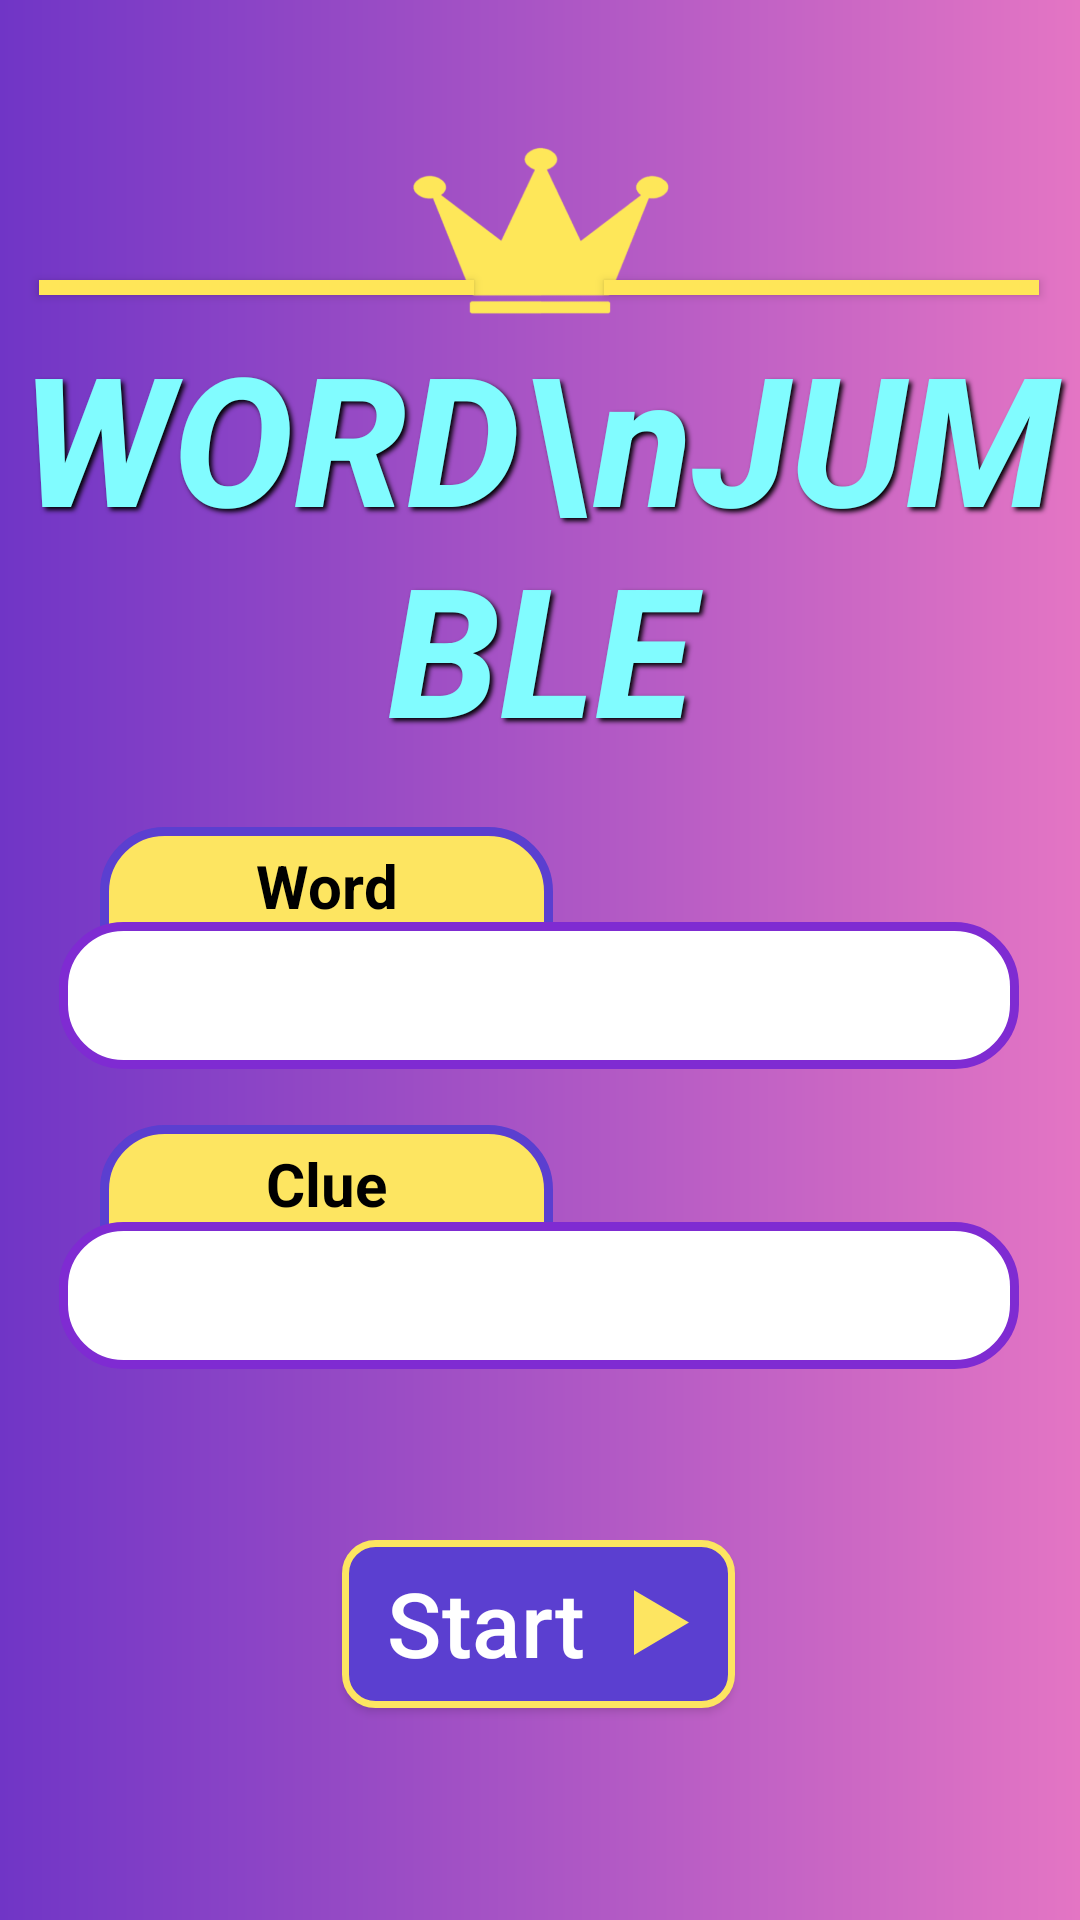

Named icons in this screenshot (1080*1920) and their bounding boxes, (x1, y1, x2, y2):
crown: (410, 110, 671, 356)
